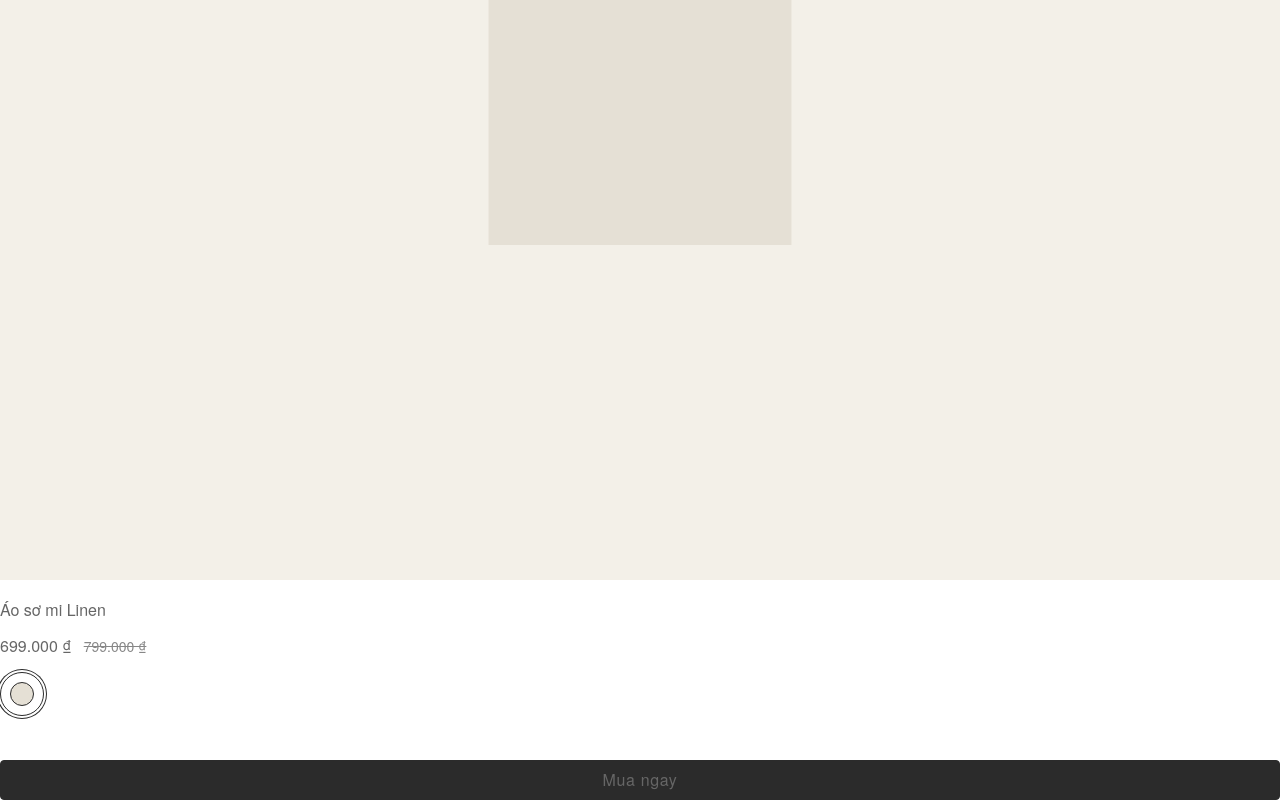
ProductCard › requires an explicit available size before buy now
(page scrolled)
Click the button "Mua ngay": (640, 780) [0,760,1279,799]
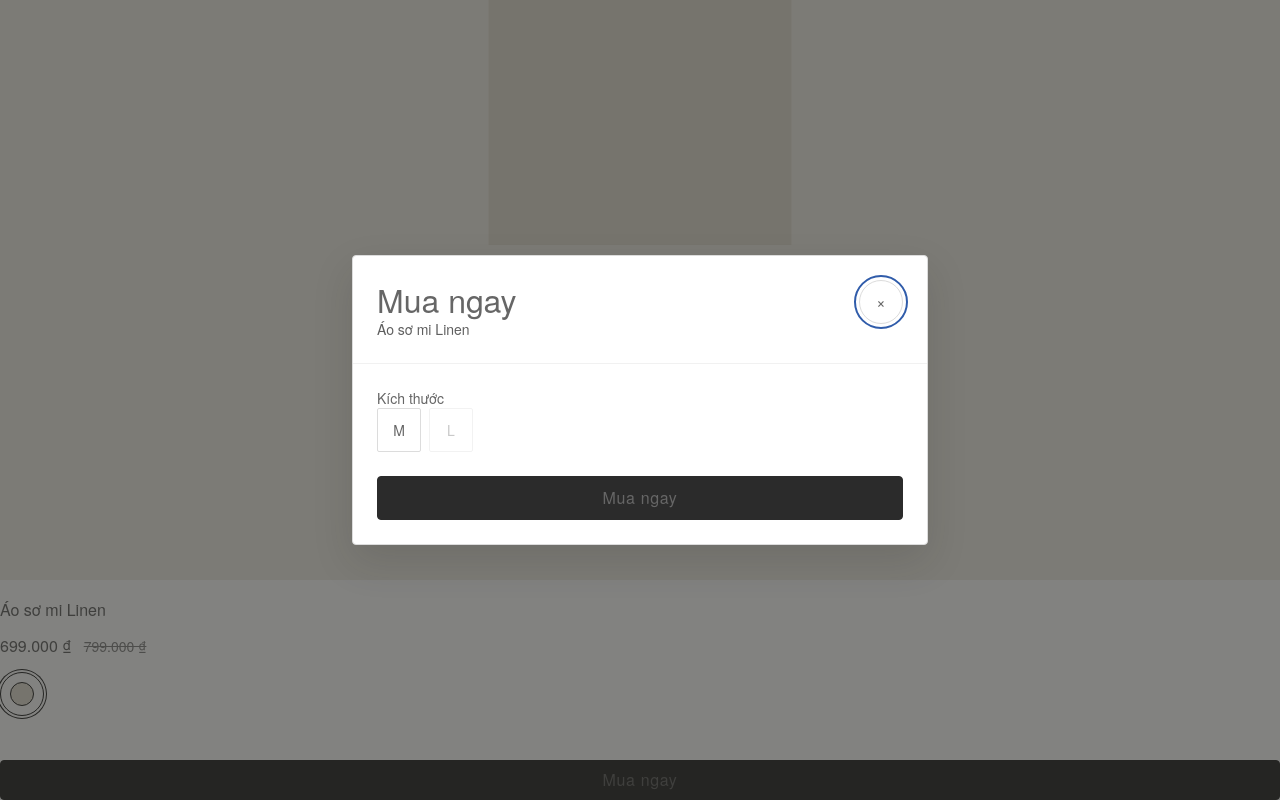
Click the button "Mua ngay": (640, 498) [377,476,903,520]
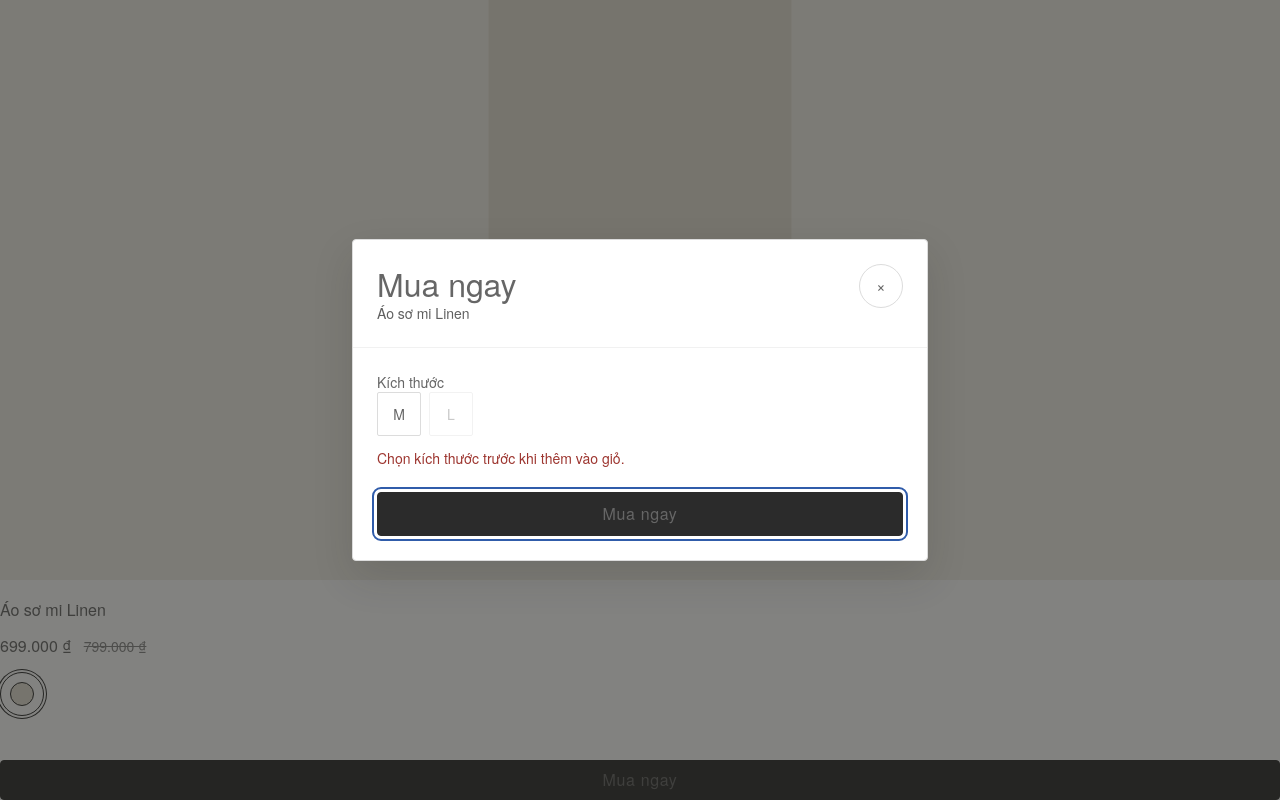
Check: the message reads "Chọn kích thước trước khi thêm vào giỏ.", box [377,448,624,468]
